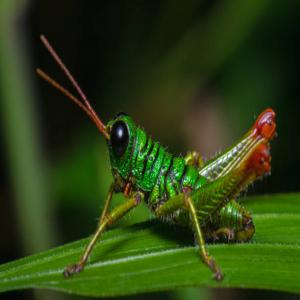locust: (54, 65, 284, 275)
